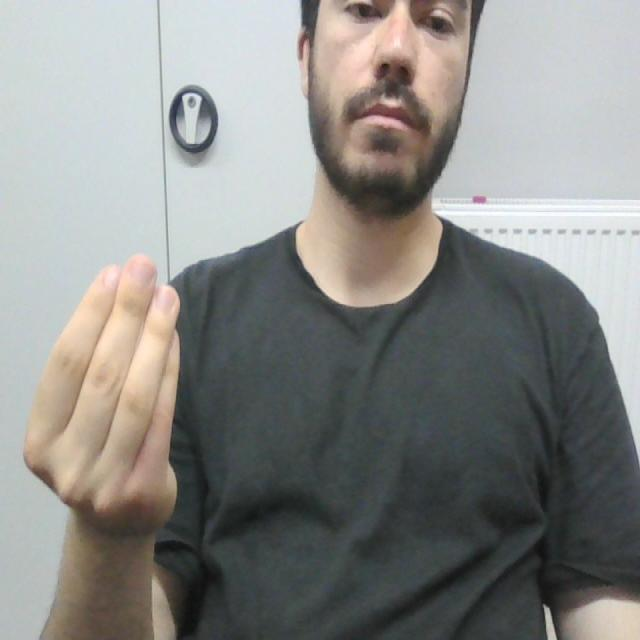iyi: (17, 256, 189, 522)
